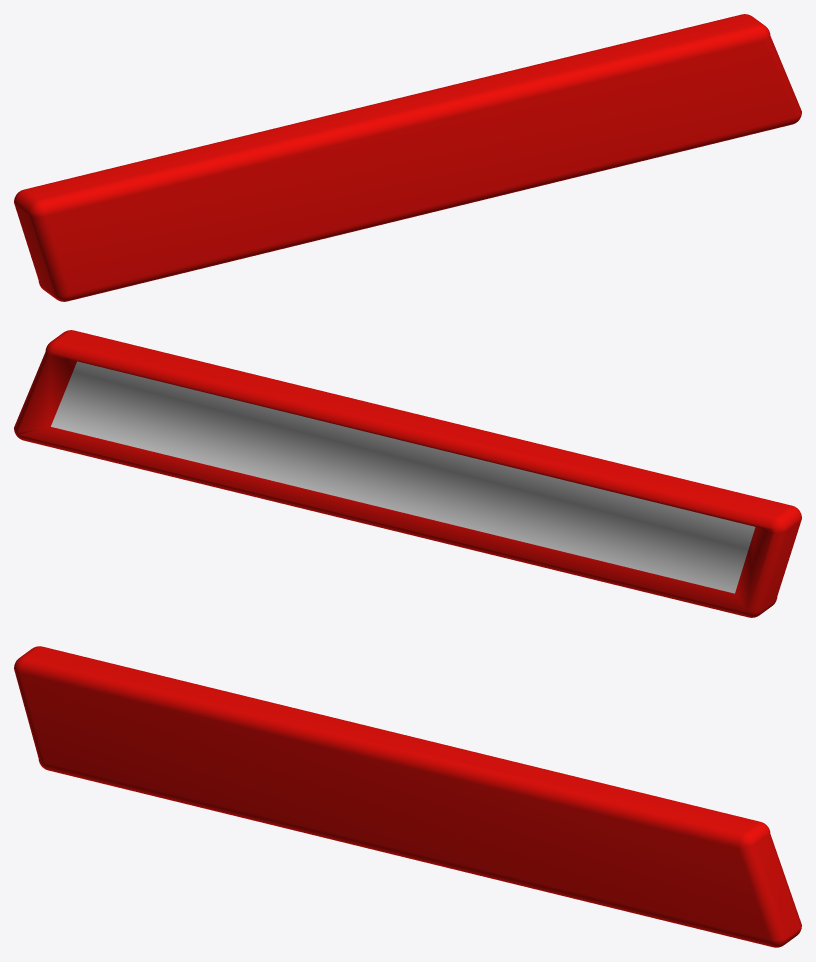
3 views of the same model, one above another, from view 1: azimuth 30°, elevation 25°; view 2: azimuth 150°, elevation 25°; view 3: azimuth 330°, elevation 25° (orthographic).
Parts seen in each view (by area): view 1: Cube; view 2: Cube; view 3: Cube.
Boxes of the visible parts, x1=… form: Cube: x1=14, y1=14, x2=801, y2=301; Cube: x1=14, y1=330, x2=801, y2=617; Cube: x1=14, y1=646, x2=801, y2=947.
Bounding box in the file's own units: 1881 × 249 × 108.
